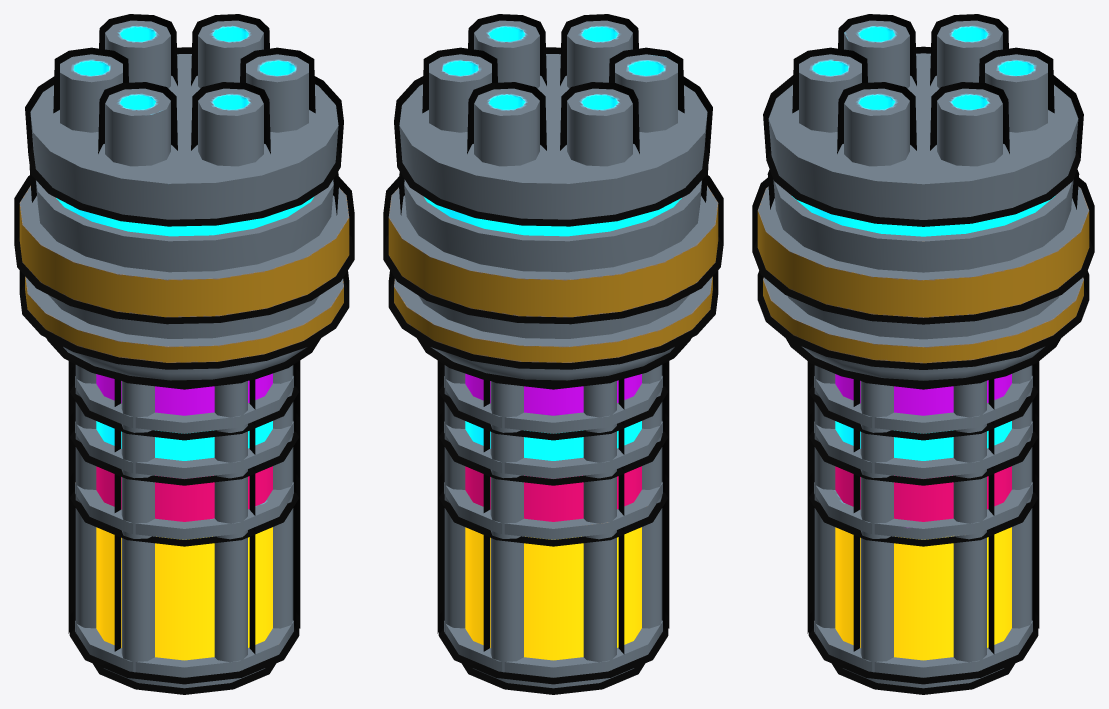
File: minigunDEF1.fbx
3 renders of one model, left to right at view 1: azimuth 30°, elevation 25°; view 2: azimuth 150°, elevation 25°; view 3: azimuth 270°, elevation 25°, orthographic.
Visible parts, largest first — view 1: minigun1 (×2); view 2: minigun1 (×2); view 3: minigun1 (×2).
Part boxes in pixels (x1,y1,x2,y2): minigun1 (×2): [14, 14, 354, 694]; minigun1 (×2): [383, 14, 723, 694]; minigun1 (×2): [752, 14, 1094, 694].
Bounding box in the file's own units: 4.5 × 8.59 × 4.5.
2 materials, 1 textured.
